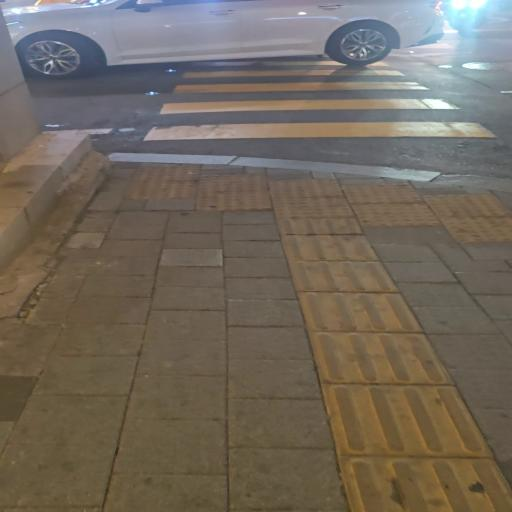yellow-crosswalk: (136, 45, 512, 149)
